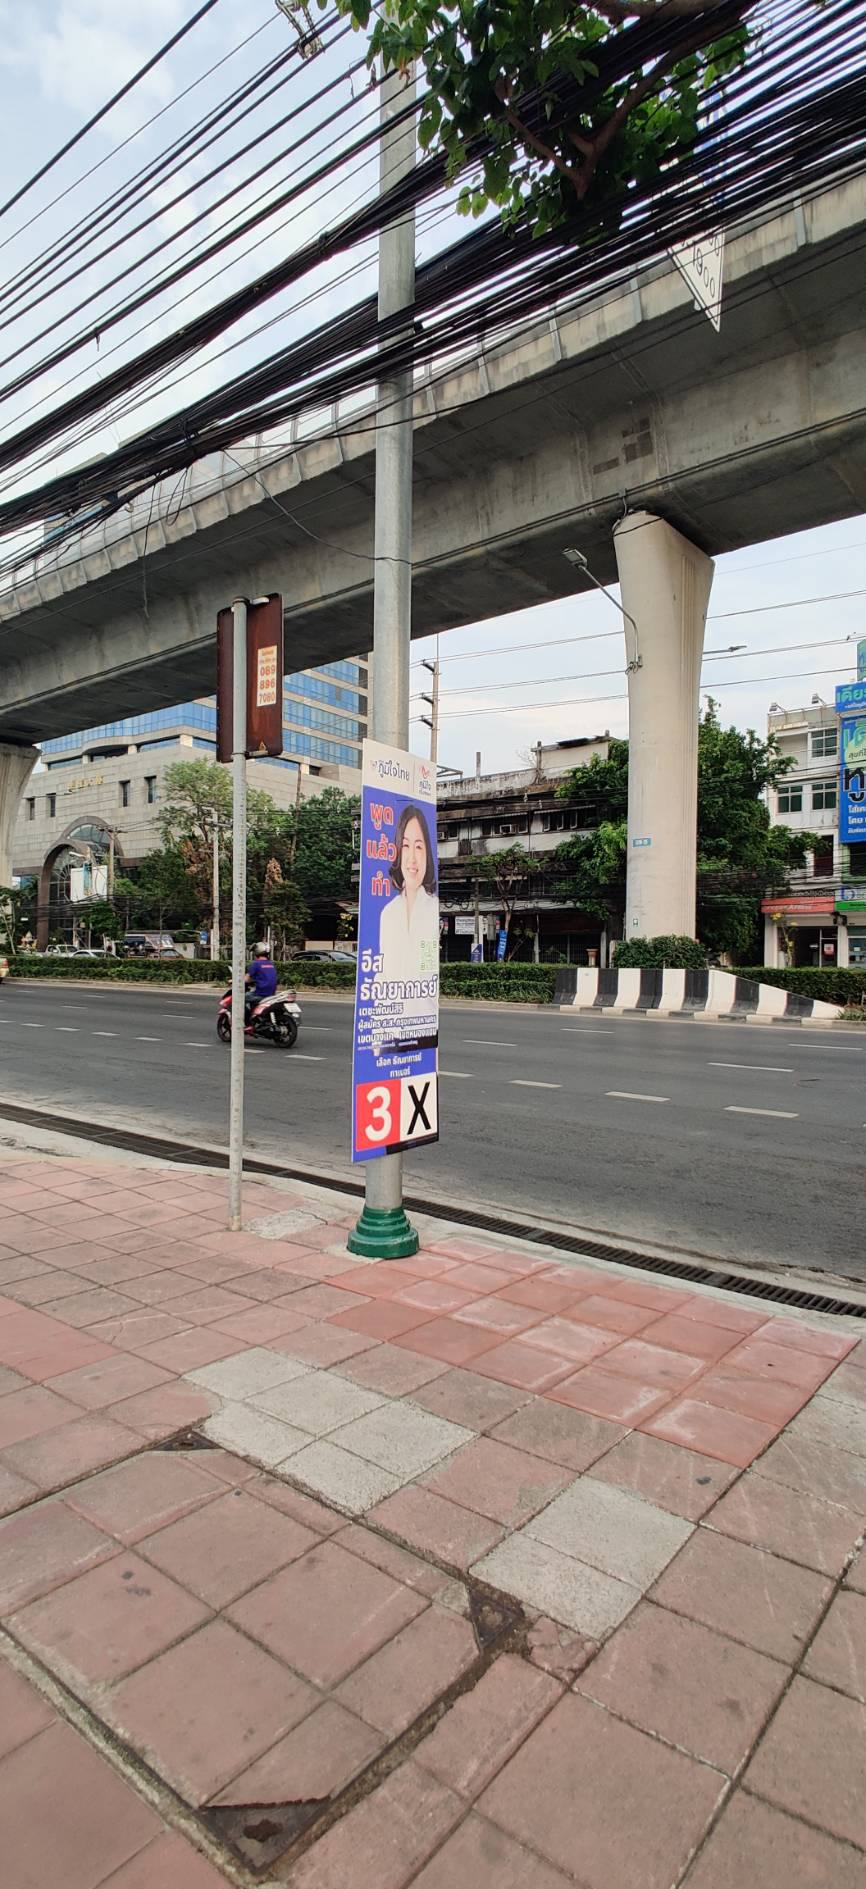Banner: (350, 732, 463, 1164)
